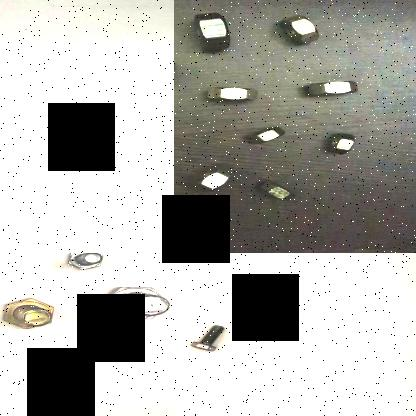Bolts: (96, 282, 174, 324), (0, 294, 63, 336), (189, 322, 229, 354), (61, 253, 111, 271)
NUTS: (188, 11, 248, 52), (276, 12, 326, 52), (192, 160, 244, 194), (202, 78, 258, 106), (304, 77, 362, 103), (254, 177, 297, 203), (242, 124, 286, 148), (322, 130, 361, 156)
